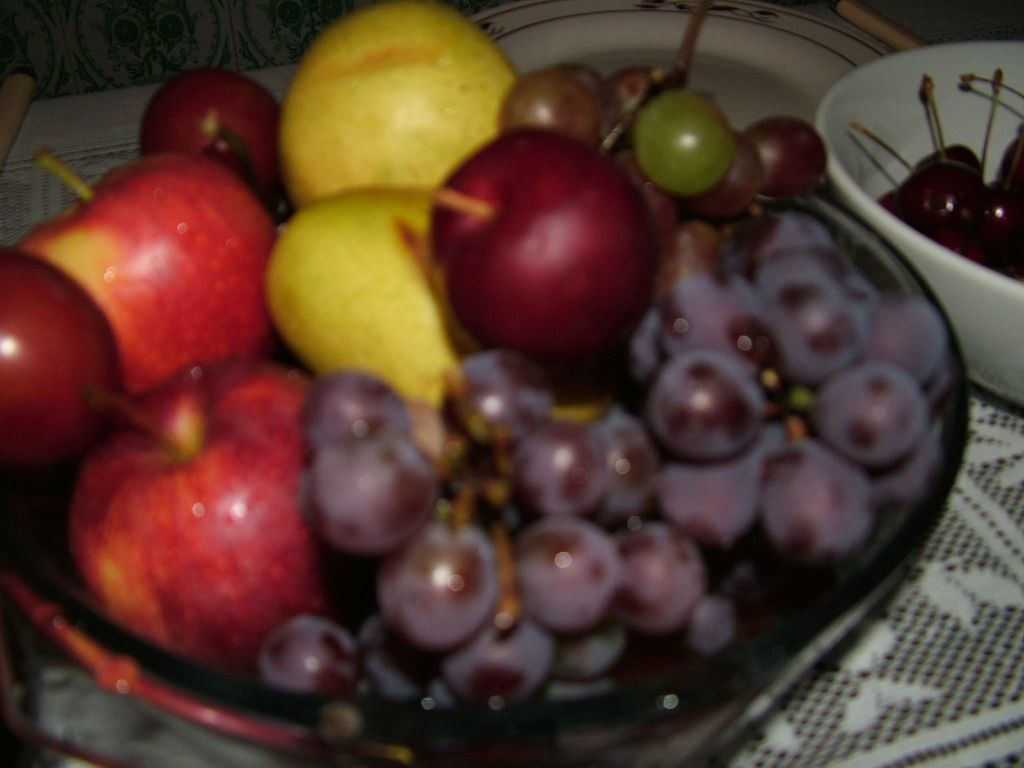Apple: (65, 360, 376, 675), (10, 148, 274, 391), (443, 120, 673, 382), (259, 185, 491, 414), (275, 0, 524, 205), (0, 238, 134, 481), (134, 72, 280, 201)
